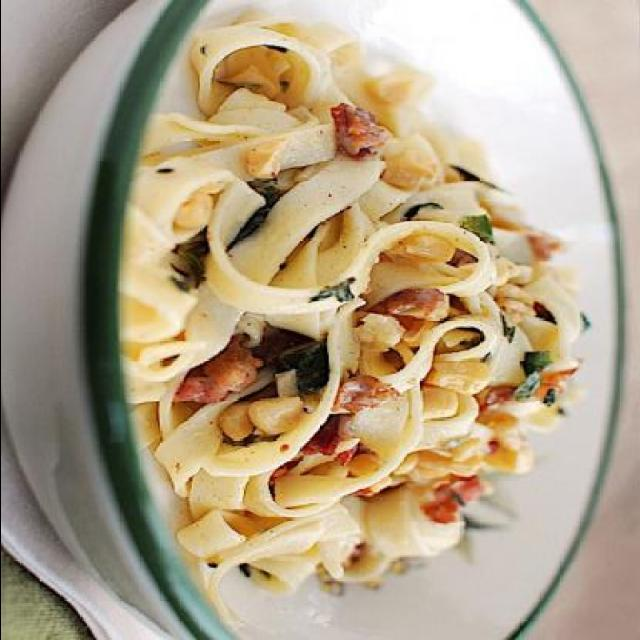Pasta with carbonara sauce: (99, 53, 616, 590)
